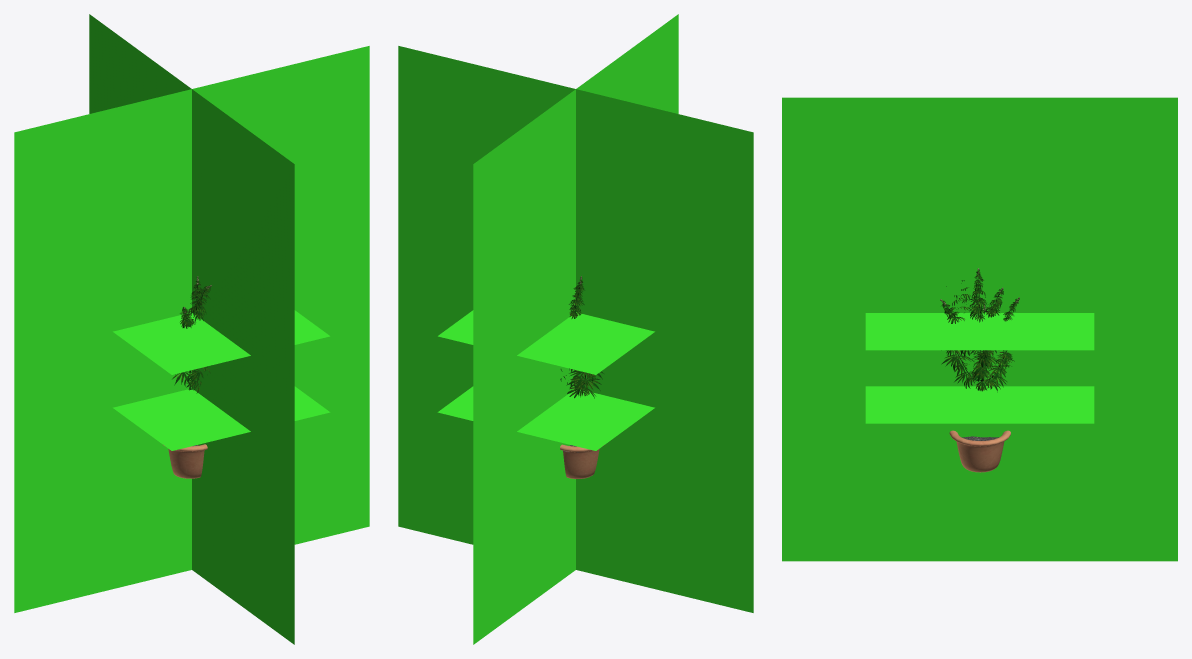
Rendered from canncabis.obj.
3 renders of one model, left to right at view 1: azimuth 30°, elevation 25°; view 2: azimuth 150°, elevation 25°; view 3: azimuth 270°, elevation 25°, orthographic. The views are drawn at different scales.
Visible parts, largest first — view 1: Plane760, Plane761, Plane762, Plane763, pot; view 2: Plane760, Plane761, Plane763, Plane762, pot; view 3: Plane761, Plane762, Plane763, pot.
Boxes of the visible parts, x1,y1,x2,y2 form: Plane760: (14,46,369,612); Plane761: (89,14,294,644); Plane762: (113,386,330,450); Plane763: (113,310,329,374); pot: (163,444,207,478); Plane760: (398,46,753,612); Plane761: (473,14,678,644); Plane763: (438,310,654,374); Plane762: (437,386,654,450); pot: (560,444,604,478); Plane761: (782,97,1177,561); Plane762: (865,386,1094,423); Plane763: (865,313,1094,350); pot: (949,430,1010,472).
Bounding box in the file's own units: 542 × 701 × 542.
